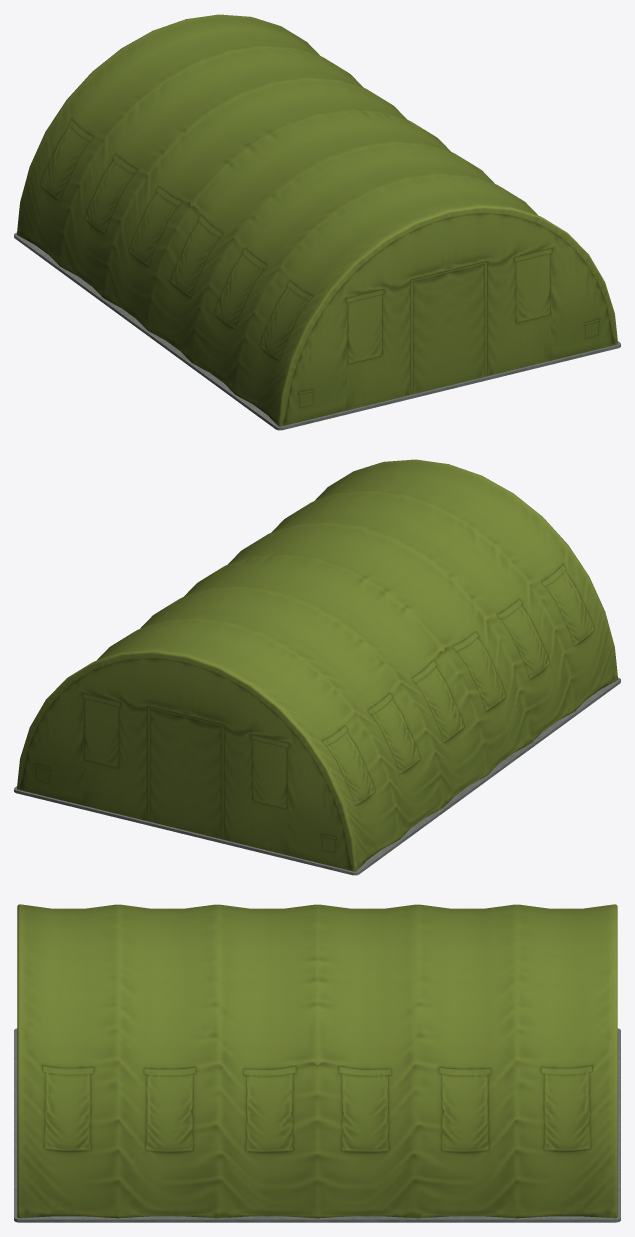
Rendered from Tent01_1.FBX.
3 views of the same model, one above another, from view 1: azimuth 30°, elevation 25°; view 2: azimuth 150°, elevation 25°; view 3: azimuth 270°, elevation 25° (orthographic). The views are drawn at different scales.
Parts seen in each view (by area): view 1: Tent01_1; view 2: Tent01_1; view 3: Tent01_1.
Part boxes in pixels (x1,y1,x2,y2): Tent01_1: (14, 14, 620, 430); Tent01_1: (14, 459, 620, 875); Tent01_1: (14, 904, 620, 1222).
Size of what is drawn, in the model's own units: 6.84 by 3.36 by 9.15.
